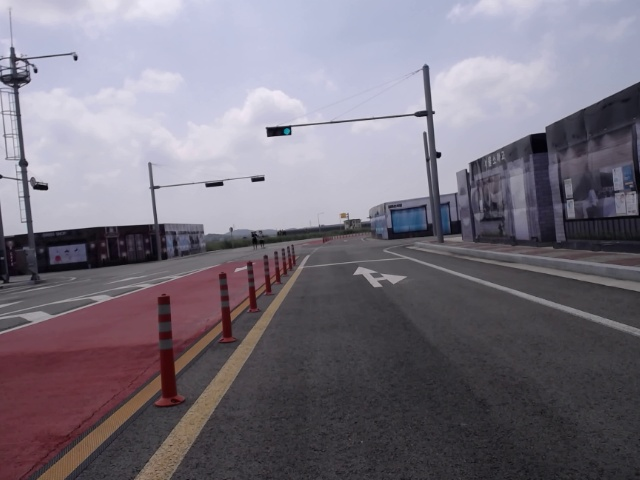green_3: (266, 126, 292, 136)
